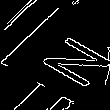N_NW: (10, 24, 100, 86)
